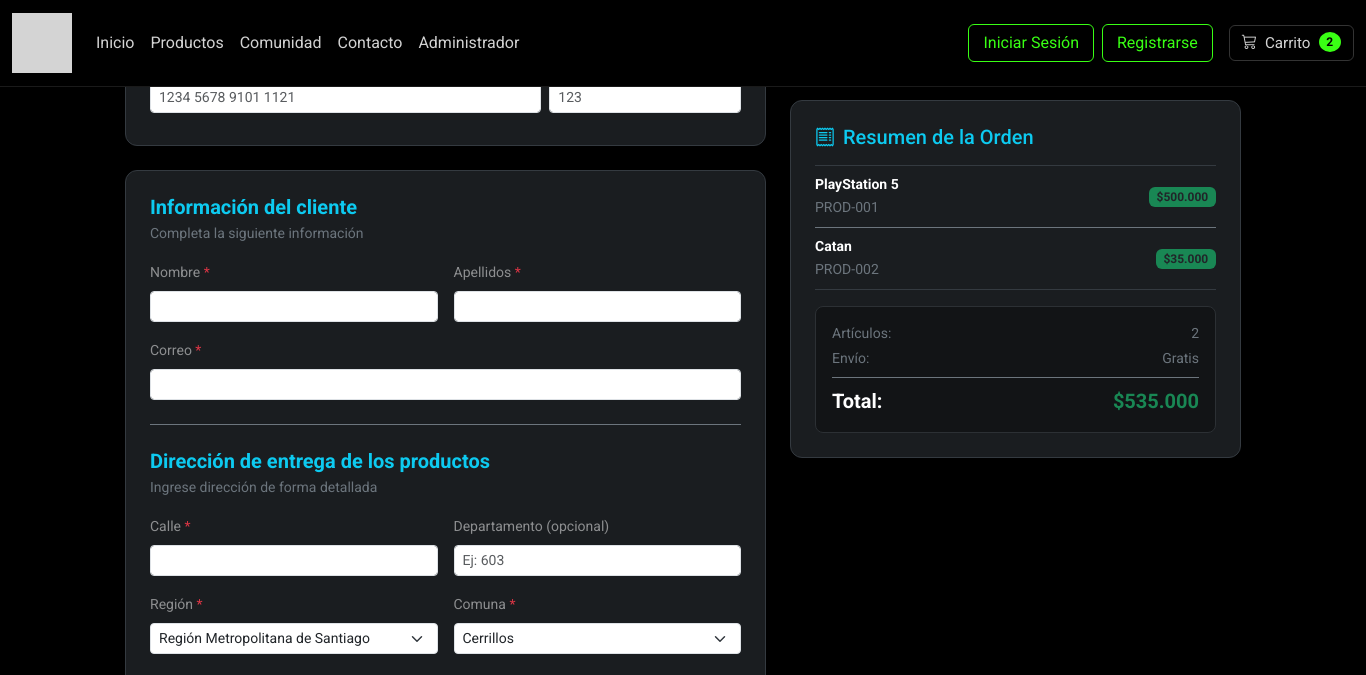
Test: Flujo exitoso: procesar pago aprobado limpia el carrito y muestra confirmación
(page scrolled)
Type "lucas@gmail.com" into the field named "correo". click: [446, 385]
box: left=150, top=369, right=741, bottom=400
(page scrolled)
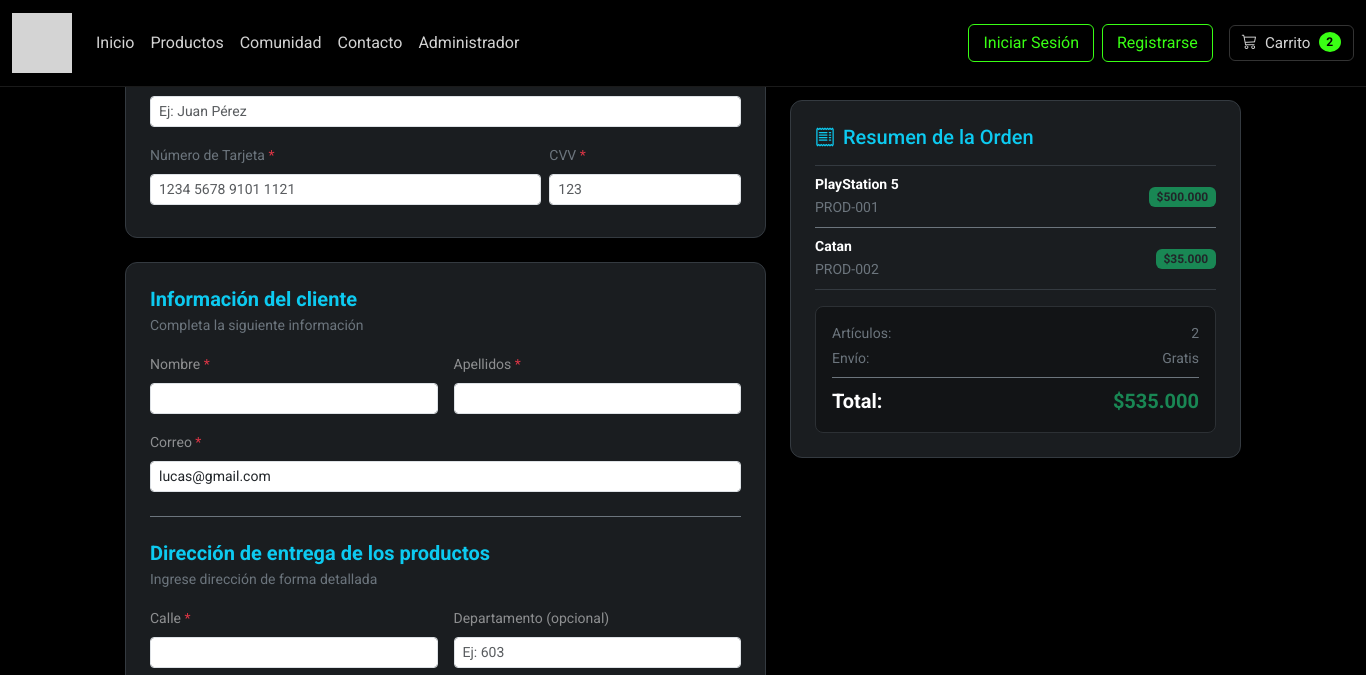
Submit the form
(page scrolled)
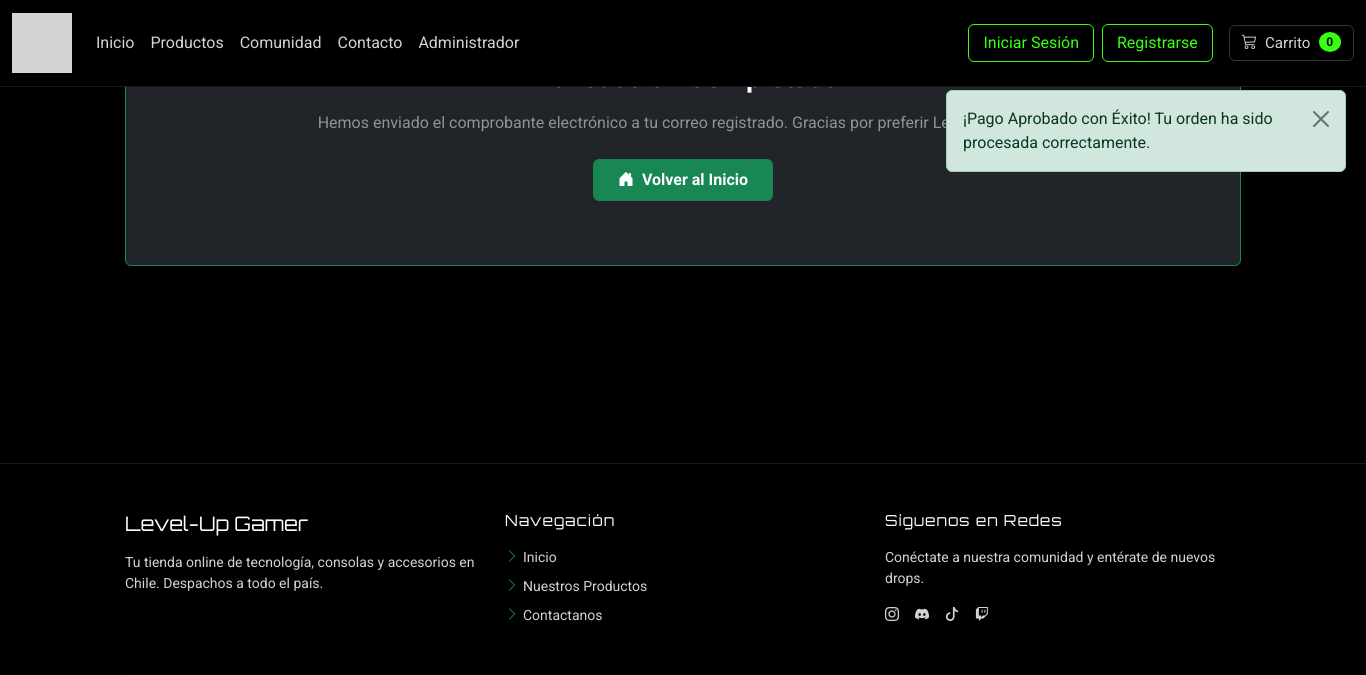
Check: the heading "Transacción Completada" is shown, box left=526, top=61, right=840, bottom=94
